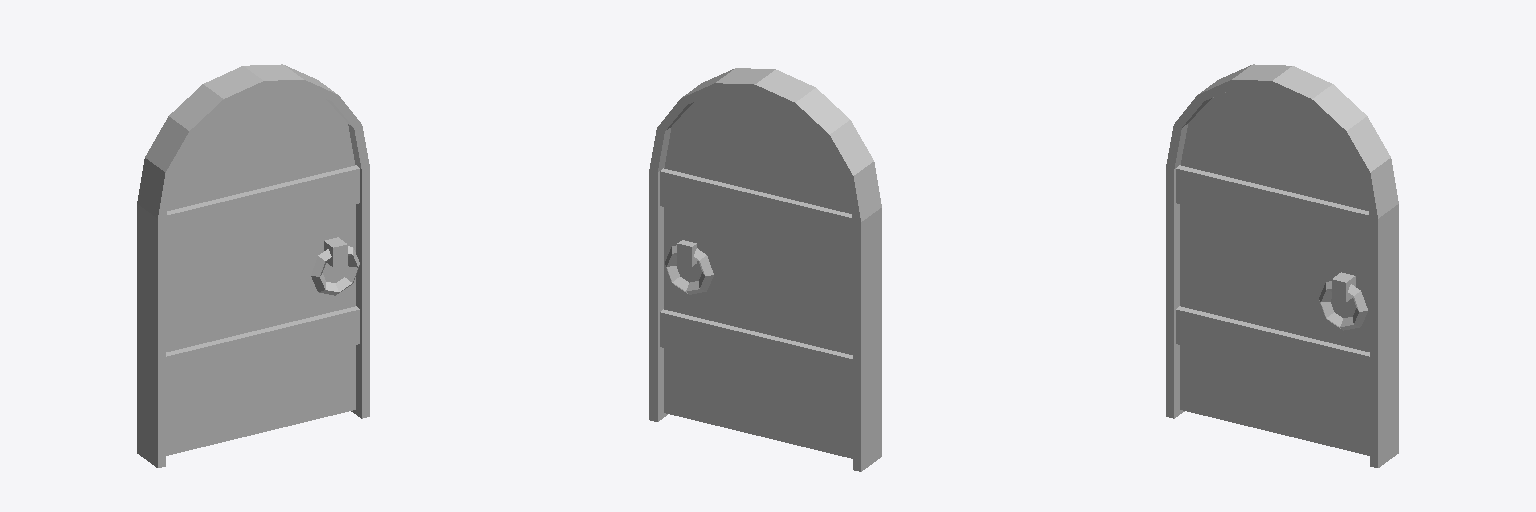
File: Door.obj
The picture shows the model from 3 angles: view 1: azimuth 30°, elevation 25°; view 2: azimuth 150°, elevation 25°; view 3: azimuth 330°, elevation 25°; orthographic projection.
Parts seen in each view (by area): view 1: Door; view 2: Door; view 3: Door.
Part boxes in pixels (x1,y1,x2,y2): Door: (137,64,369,467); Door: (649,68,881,471); Door: (1166,64,1398,467).
Bounding box in the file's own units: 14.08 × 22.95 × 2.96.